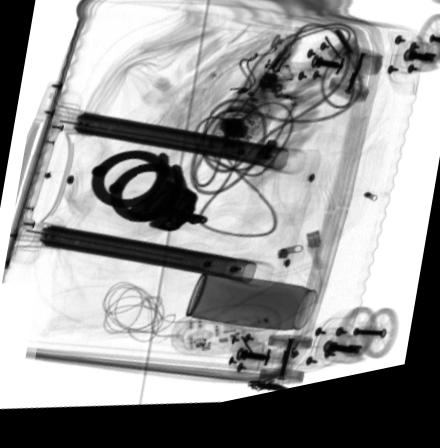HandCuffs: (90, 155, 208, 239)
